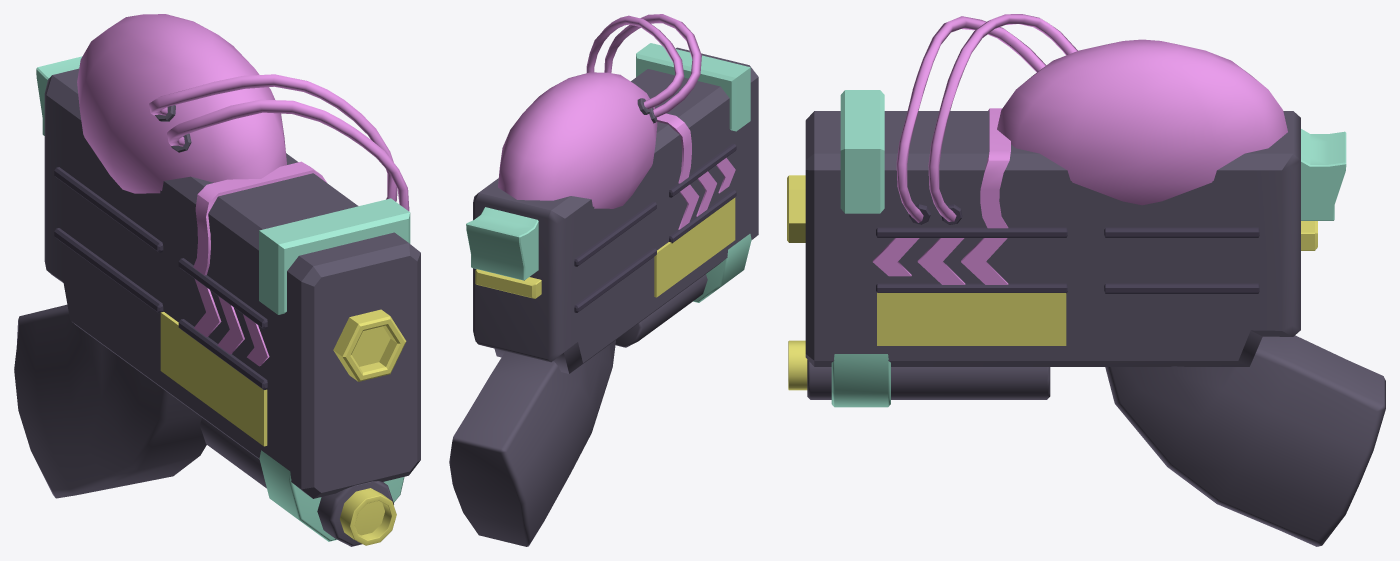
The model's file is GunColored_separate.fbx.
3 views of the same model, side by side, from view 1: azimuth 30°, elevation 25°; view 2: azimuth 150°, elevation 25°; view 3: azimuth 270°, elevation 25° (orthographic). The views are drawn at different scales.
Visible parts, largest first — view 1: polySurface22, polySurface28; view 2: polySurface22, polySurface28; view 3: polySurface22, polySurface28.
Boxes of the visible parts, left/top/right/bottom form: polySurface22: left=14, top=56, right=420, bottom=546; polySurface28: left=77, top=14, right=409, bottom=366; polySurface22: left=449, top=43, right=758, bottom=546; polySurface28: left=498, top=14, right=735, bottom=229; polySurface22: left=787, top=90, right=1385, bottom=546; polySurface28: left=872, top=14, right=1287, bottom=284.
Bounding box in the file's own units: 0.2207 × 0.6351 × 0.6825.
